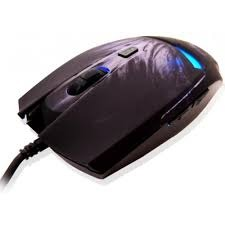mouse: (16, 30, 225, 182)
